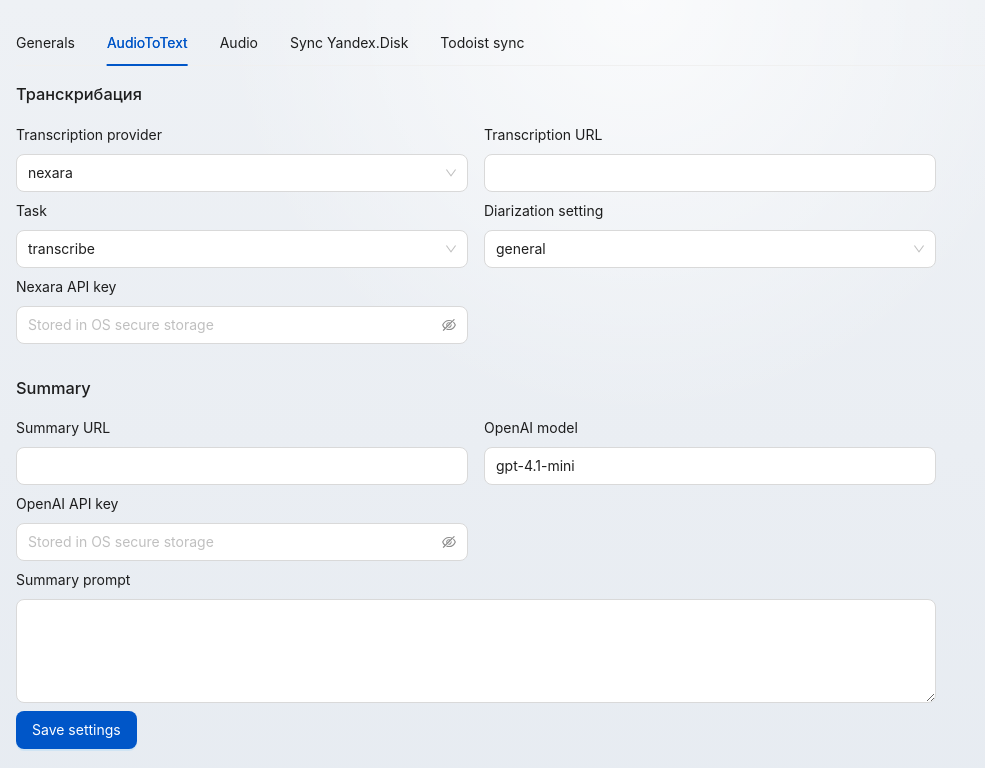
Test: App settings window › shows a pending macOS permission state before lookup resolves
This screenshot has width=985, height=768.
Click the tab "Audio": {"x": 239, "y": 43} 220,32 -> 258,54
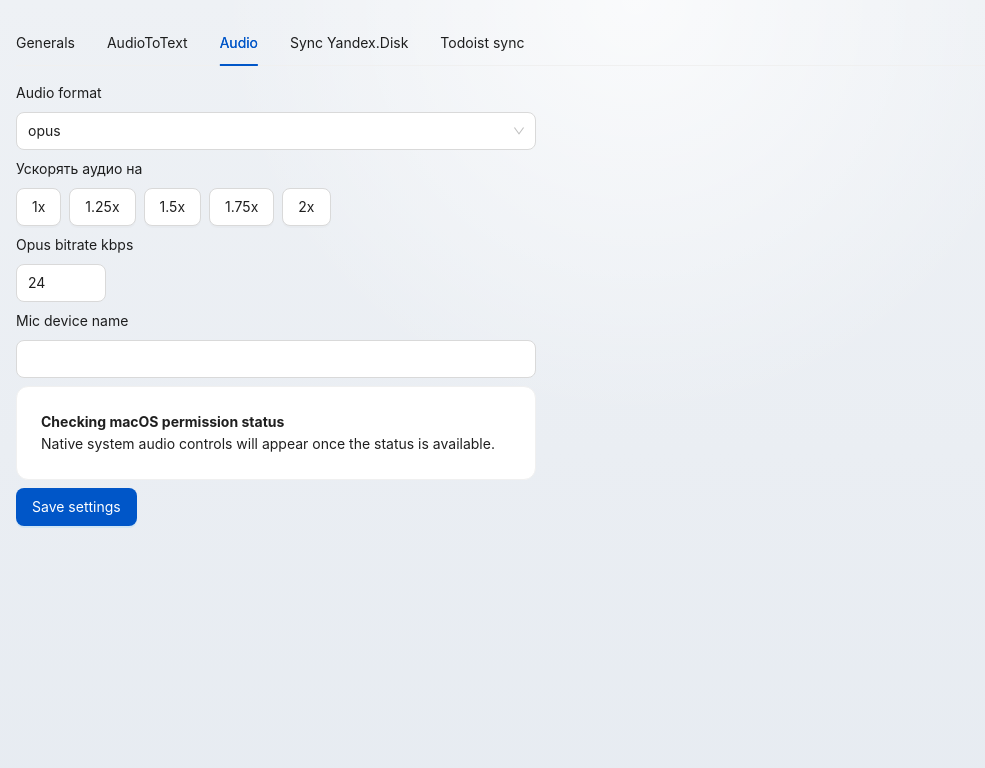
Check: the text "Checking macOS permission status" is shown, box 41,413 -> 284,430
